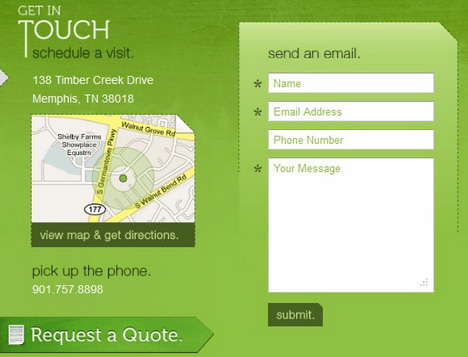_form_: (184, 10, 468, 357)
field: (268, 157, 435, 293), (268, 101, 434, 122), (267, 129, 433, 150), (268, 73, 434, 92), (267, 303, 323, 327)
